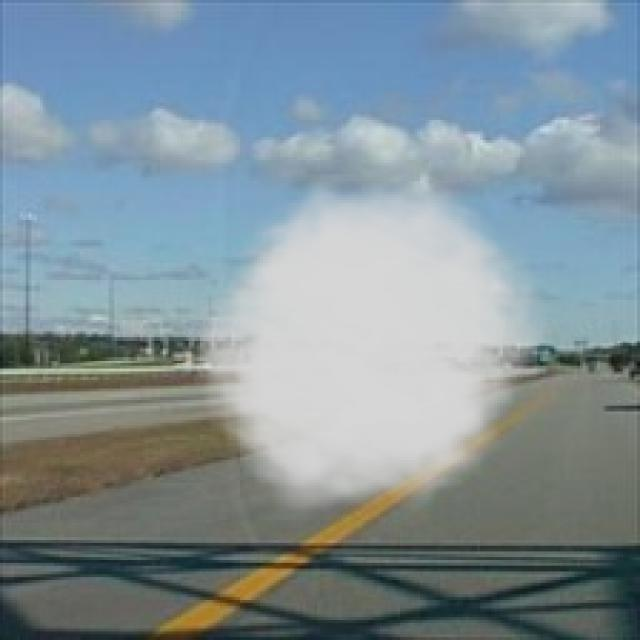smoke: (180, 174, 557, 526)
